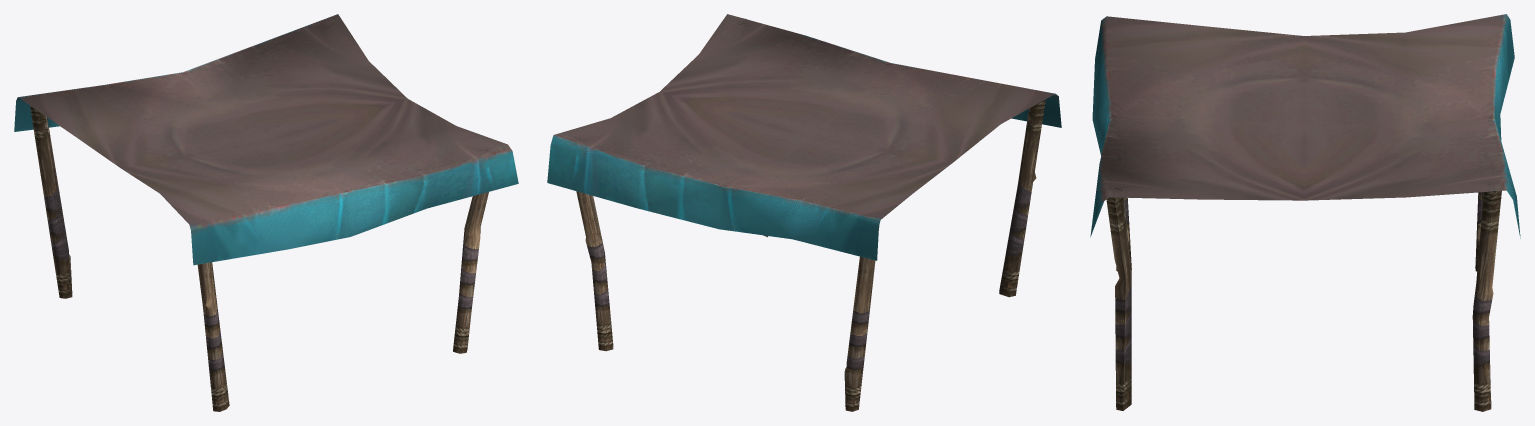
The model's file is daliang_field_b_s02d.fbx.
3 renders of one model, left to right at view 1: azimuth 30°, elevation 25°; view 2: azimuth 150°, elevation 25°; view 3: azimuth 270°, elevation 25°, orthographic. The views are drawn at different scales.
Parts seen in each view (by area): view 1: daliang_field_b_s02d; view 2: daliang_field_b_s02d; view 3: daliang_field_b_s02d.
Boxes of the visible parts, <box> form: daliang_field_b_s02d: <box>14,14,518,411</box>; daliang_field_b_s02d: <box>547,14,1061,411</box>; daliang_field_b_s02d: <box>1090,14,1520,411</box>.
Size of the model in its own units: 506 by 310 by 500.
